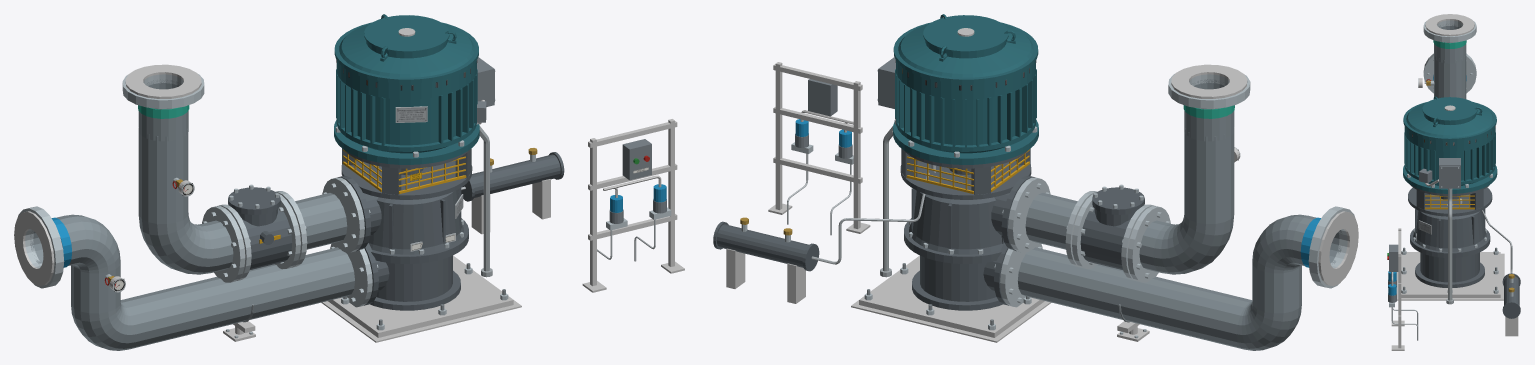
The model's file is inventory.obj.
3 views of the same model, side by side, from view 1: azimuth 30°, elevation 25°; view 2: azimuth 150°, elevation 25°; view 3: azimuth 270°, elevation 25° (orthographic). The views are drawn at different scales.
Bounding box in the file's own units: 0.9 × 0.3868 × 0.2656.
